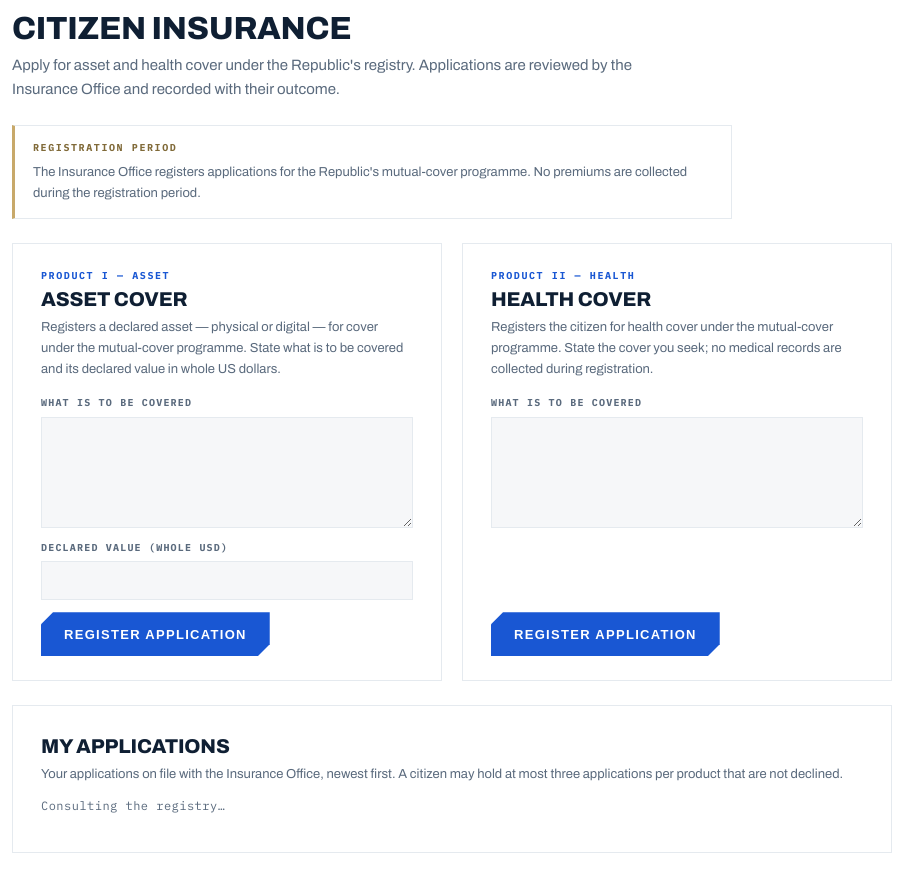
InsuranceApp › ASSET application posts product + note + integer valueUsd
In the text box labelled "What is to be covered" below "Asset cover": (227, 472) [41,417,413,528], type "Cover my workshop against fire."
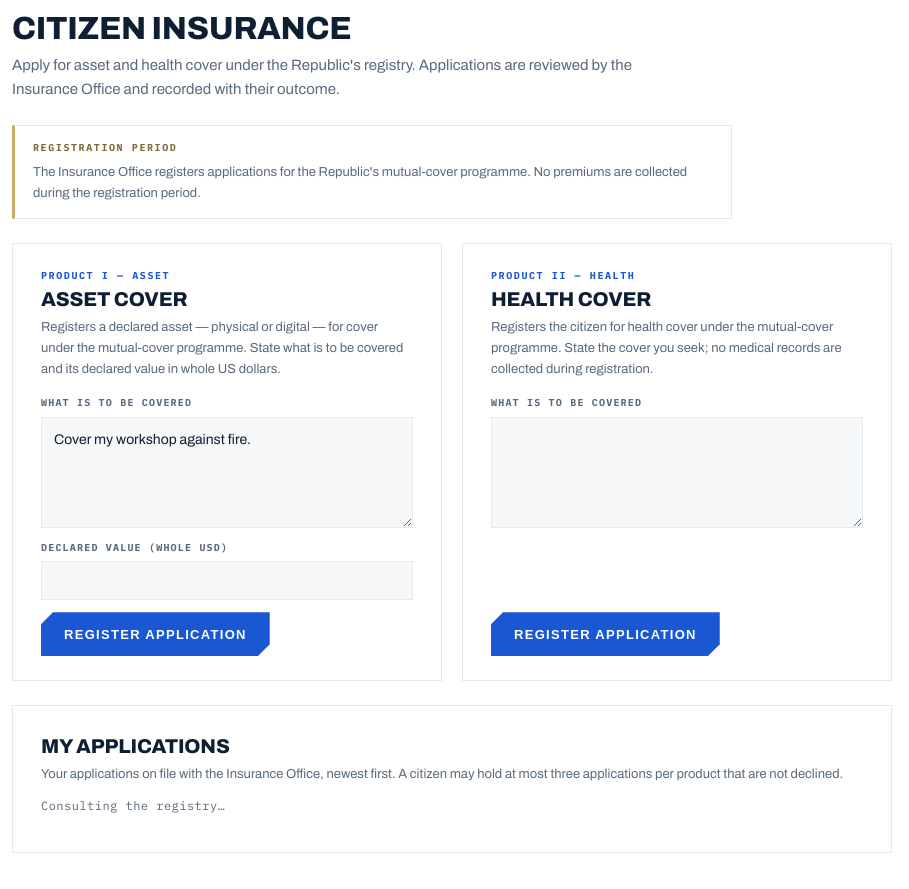
In the number field labelled "Declared value (whole USD)": (227, 581) [41,561,413,600], type "250000"
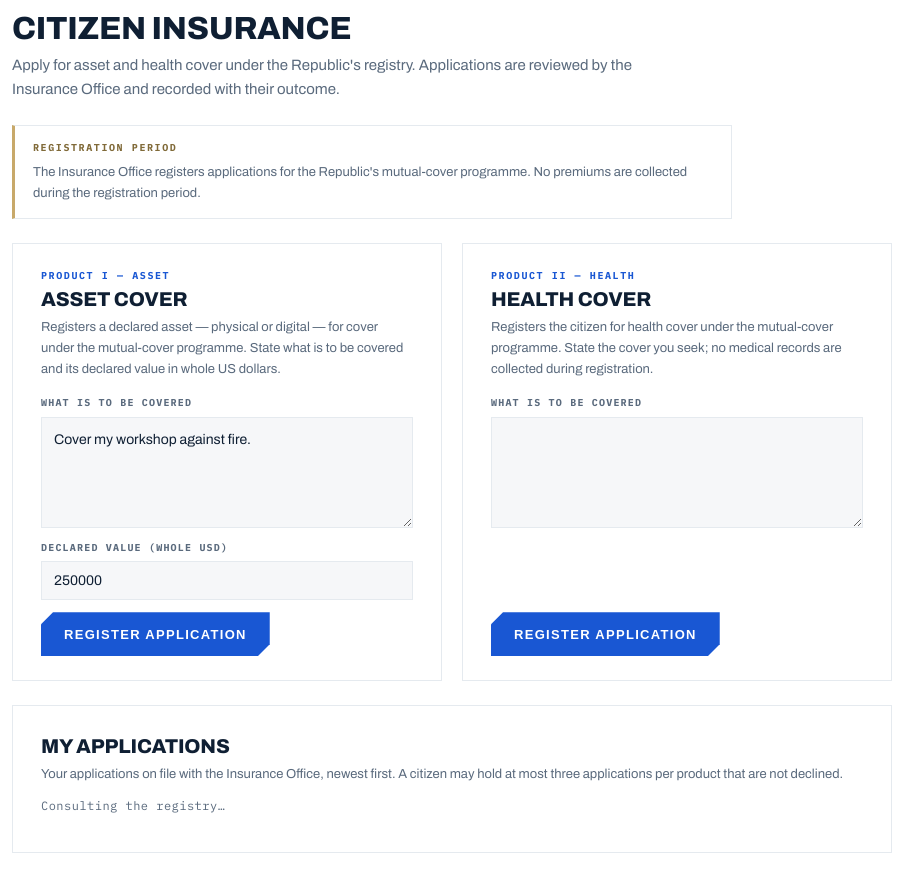
Click the button with test id "insurance-apply-ASSET": (155, 634) [41,612,270,656]
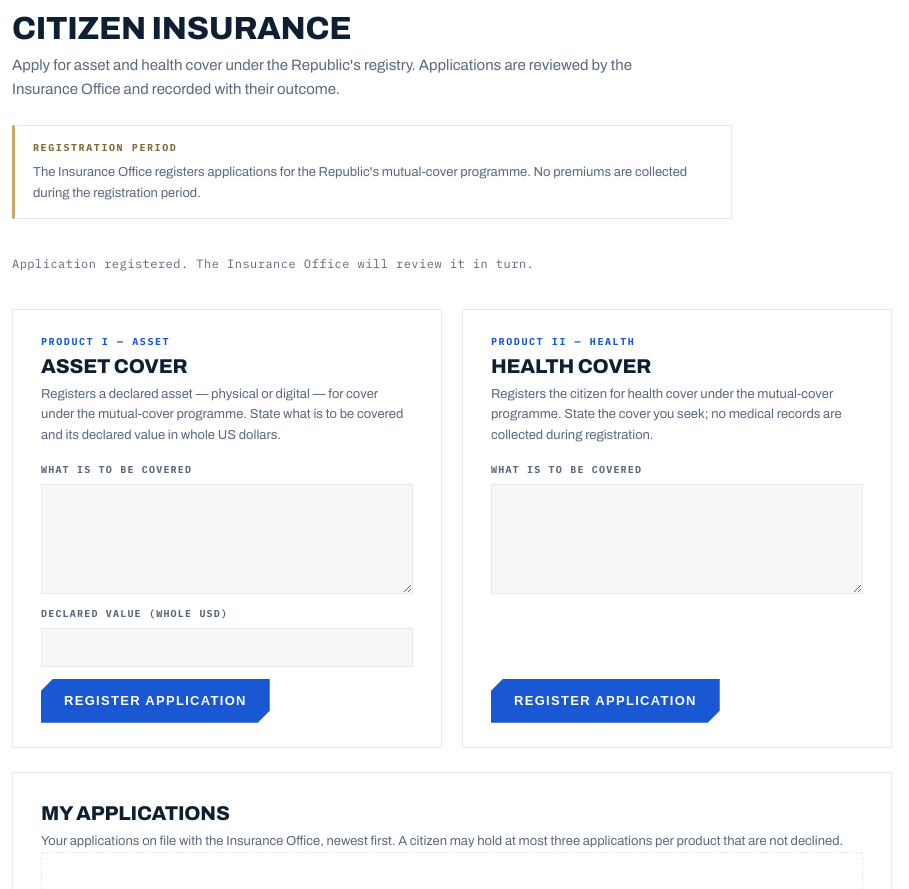
Expected: the message with test id "insurance-status" shows "Application registered", [12,256,534,271]
